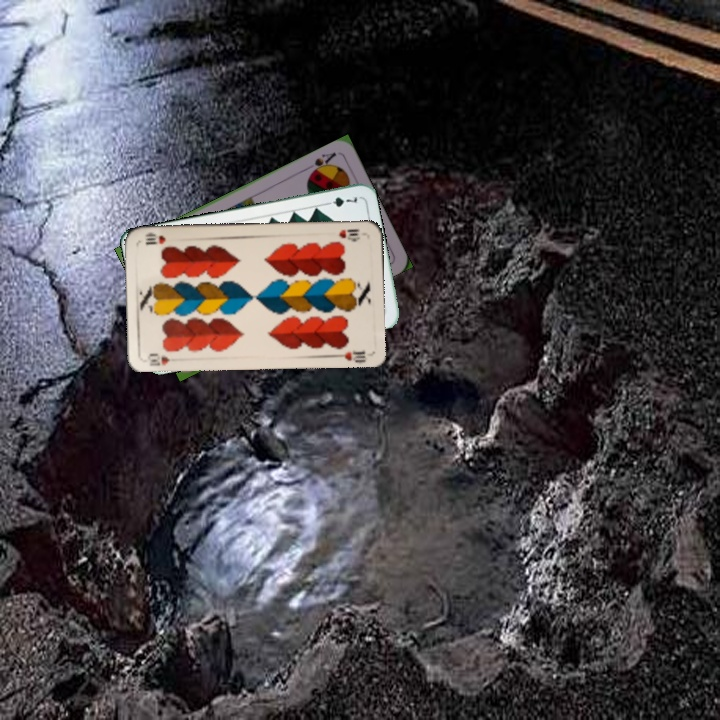G7: (320, 193, 360, 210)
H10: (145, 349, 172, 368), (335, 225, 362, 243)
SA: (302, 148, 339, 178)
